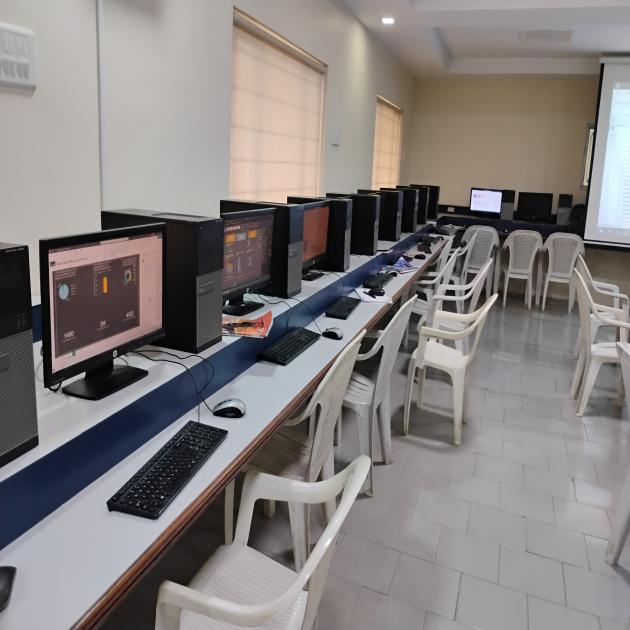chair: (421, 294, 499, 442)
computer: (36, 232, 168, 388)
cpu: (166, 204, 231, 359)
keyboard: (95, 404, 232, 536), (251, 314, 327, 379)
projector: (582, 51, 630, 260)
windowscreen: (224, 2, 344, 207), (362, 82, 414, 196)
